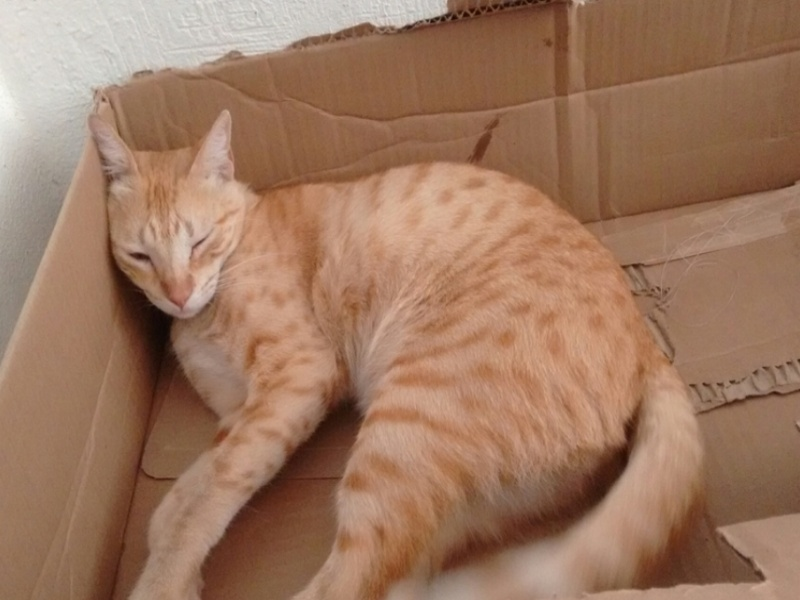cat: (74, 100, 721, 597)
